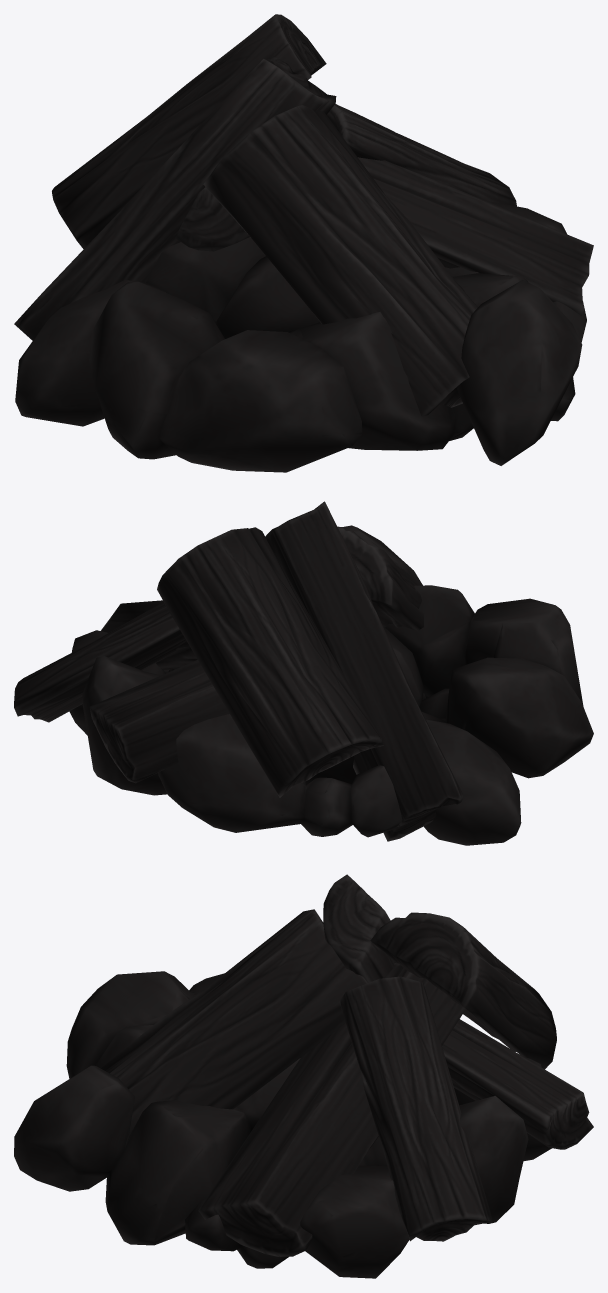
Rendered from braz1_coal_exp1.fbx.
3 renders of one model, top to bottom at view 1: azimuth 30°, elevation 25°; view 2: azimuth 150°, elevation 25°; view 3: azimuth 270°, elevation 25°, orthographic. The views are drawn at different scales.
Parts seen in each view (by area): view 1: braz1_burn1; view 2: braz1_burn1; view 3: braz1_burn1.
Part boxes in pixels (box(x1,y1,x2,y2)): braz1_burn1: box(14, 14, 593, 472); braz1_burn1: box(14, 501, 593, 845); braz1_burn1: box(14, 874, 593, 1278).
Bounding box in the file's own units: 91.5 × 54.26 × 94.24.
